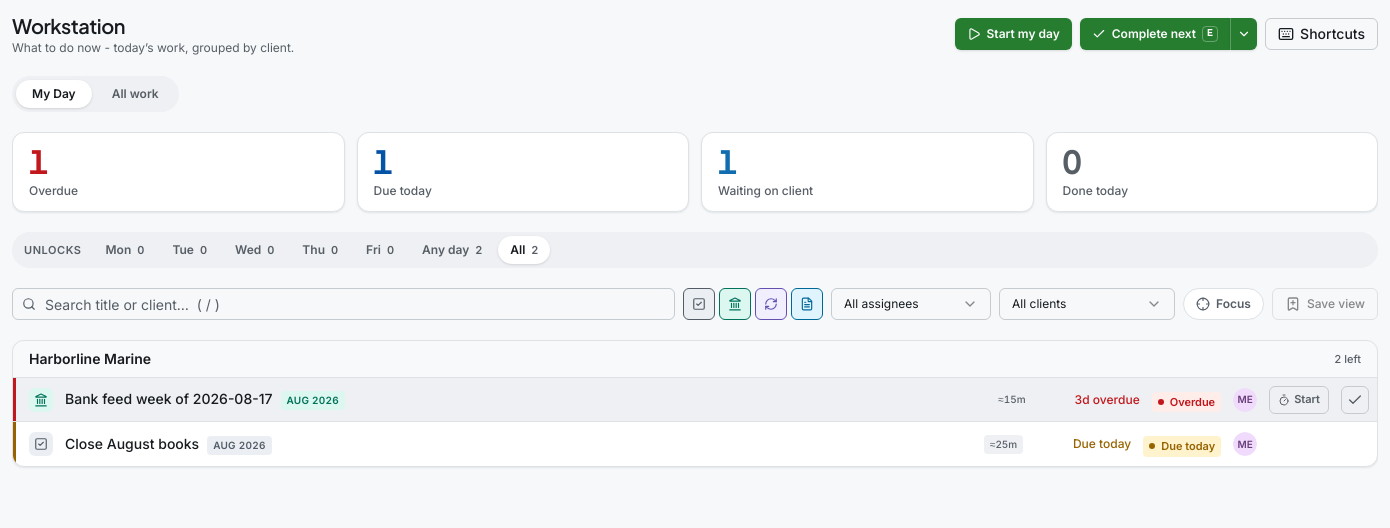
Test: Focus mode (auto-prioritizer) › completes the focused card with Next and keeps the undo strip
The width and height of the screenshot is (1390, 528).
Click the button with test id "focus-toggle": x=1224, y=304 [1183,288,1264,320]
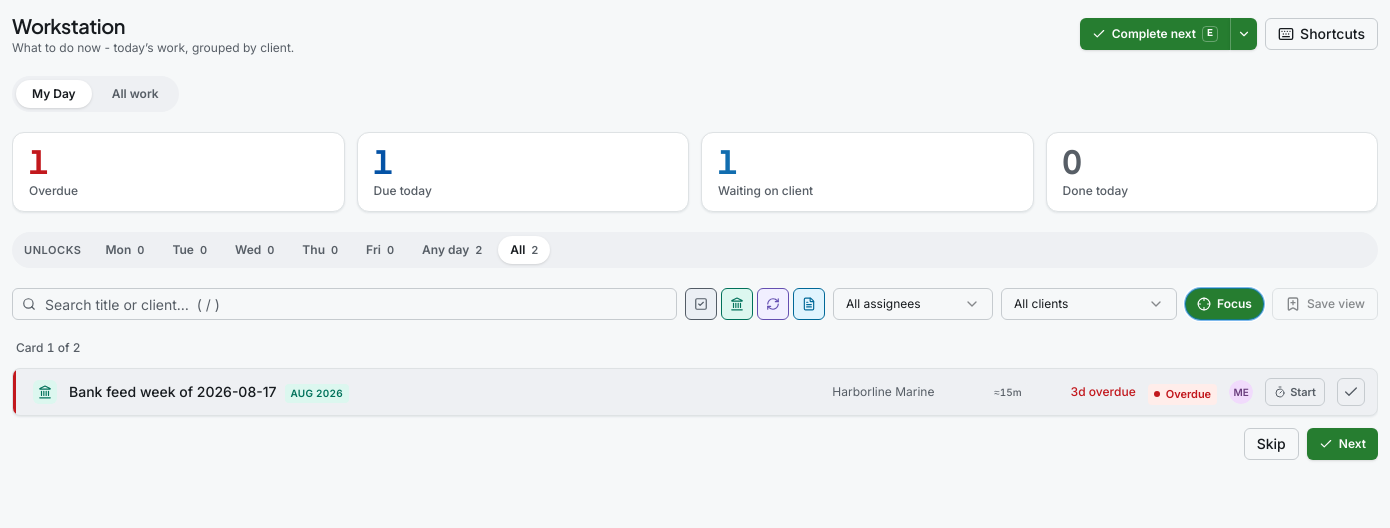
Click the button with test id "focus-next": x=1342, y=444 [1307,428,1378,460]
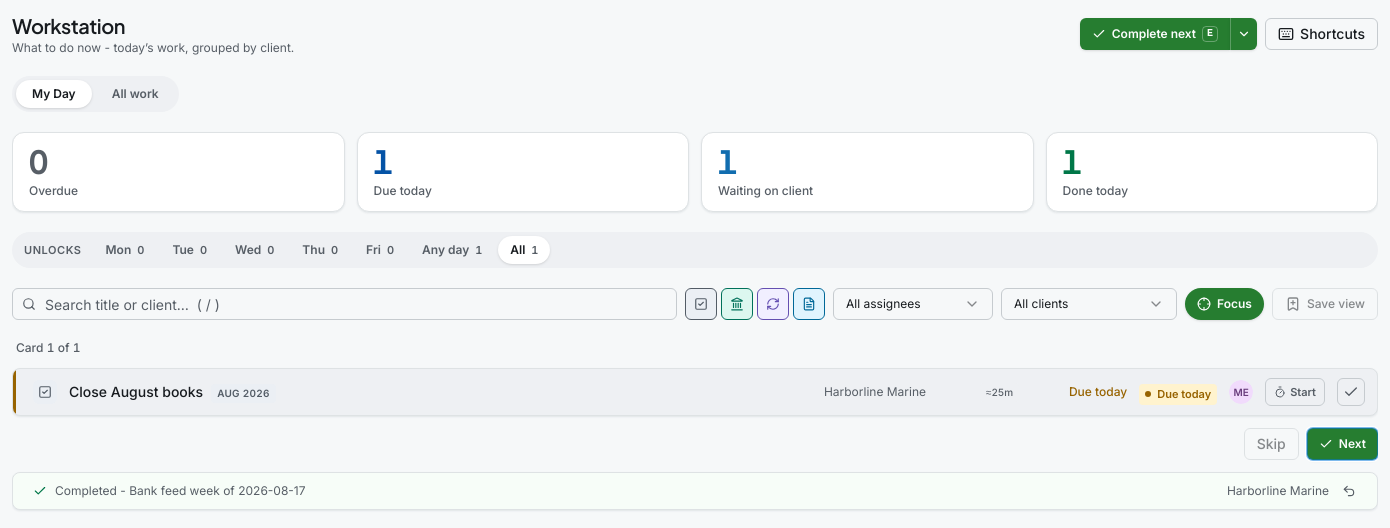
Now the text "Completed - Bank feed week of 2026-08-17" is shown, box [55,483,306,498]
